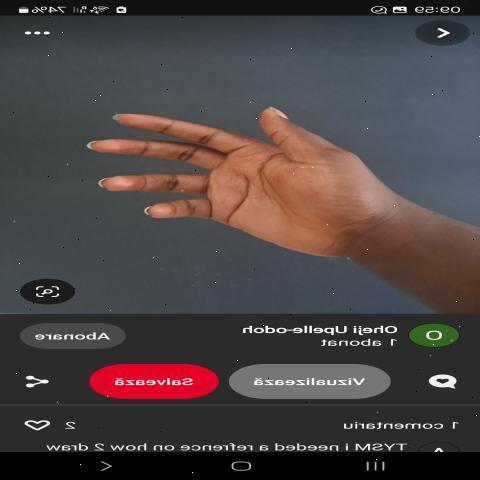Hands: (68, 58, 398, 288)
